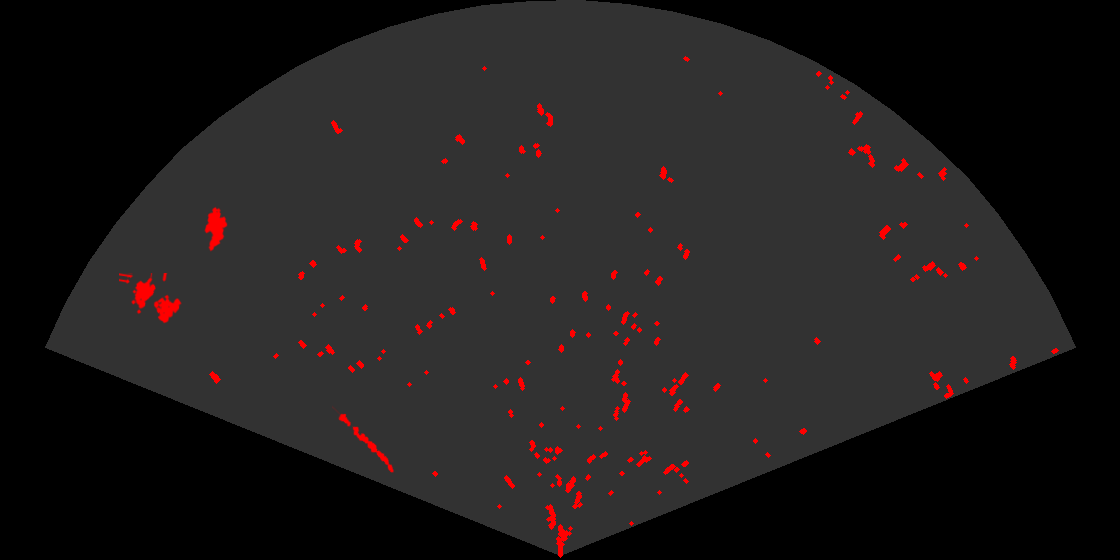AUV: (203, 205, 229, 253)
cage: (119, 273, 183, 325)
chain: (332, 404, 396, 474)
